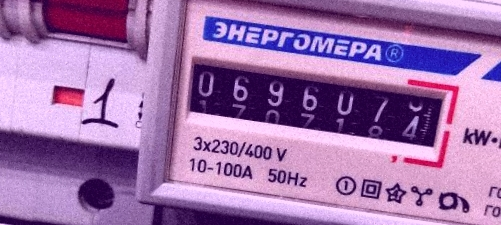0: (192, 67, 218, 99), (333, 86, 356, 118)
4: (397, 111, 420, 143)
6: (297, 81, 322, 115), (228, 72, 251, 103)
7: (368, 91, 390, 124)
9: (263, 77, 287, 109)
screen: (169, 38, 463, 171)
